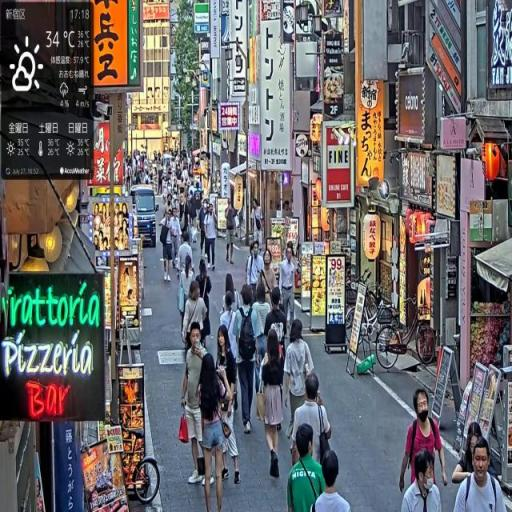person: (197, 343, 232, 512), (400, 387, 449, 497), (180, 324, 210, 487), (215, 324, 243, 488), (233, 283, 262, 440), (454, 434, 509, 512), (258, 333, 286, 482), (292, 372, 333, 472), (284, 319, 316, 445), (287, 426, 325, 512), (312, 450, 353, 512), (402, 450, 443, 511), (176, 231, 197, 339), (281, 243, 300, 345), (183, 281, 209, 355), (246, 238, 265, 304), (160, 209, 175, 285), (204, 203, 219, 272)
